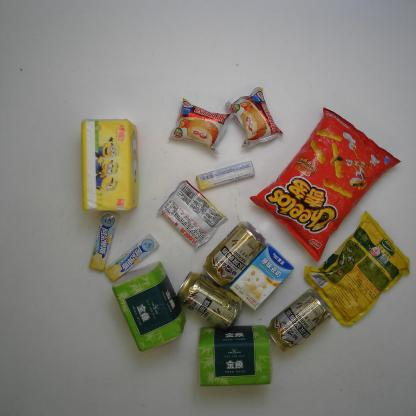Alcohol: (263, 286, 334, 354), (172, 270, 247, 334), (201, 219, 268, 289)
Candy: (102, 231, 161, 284), (88, 208, 121, 273), (194, 160, 258, 192)
Dessert: (155, 178, 230, 251), (164, 94, 236, 158), (221, 84, 287, 150)
Milk: (225, 242, 295, 313)
Puffed Food: (247, 103, 403, 266)
Seasoner: (300, 208, 412, 329)
Tissue: (110, 258, 188, 354), (75, 113, 141, 218), (194, 322, 276, 391)
